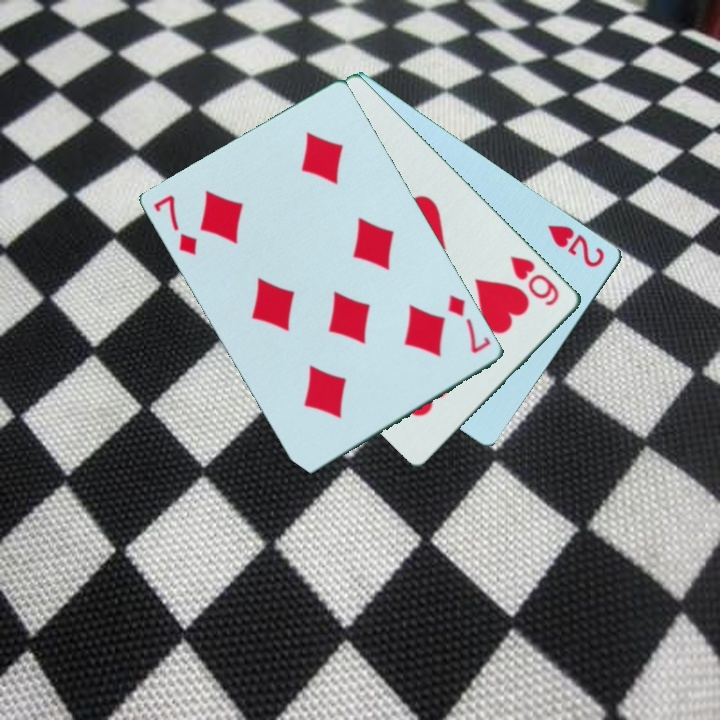2h: (544, 221, 608, 271)
6h: (507, 251, 563, 309)
7d: (150, 191, 201, 259), (444, 291, 494, 357)
